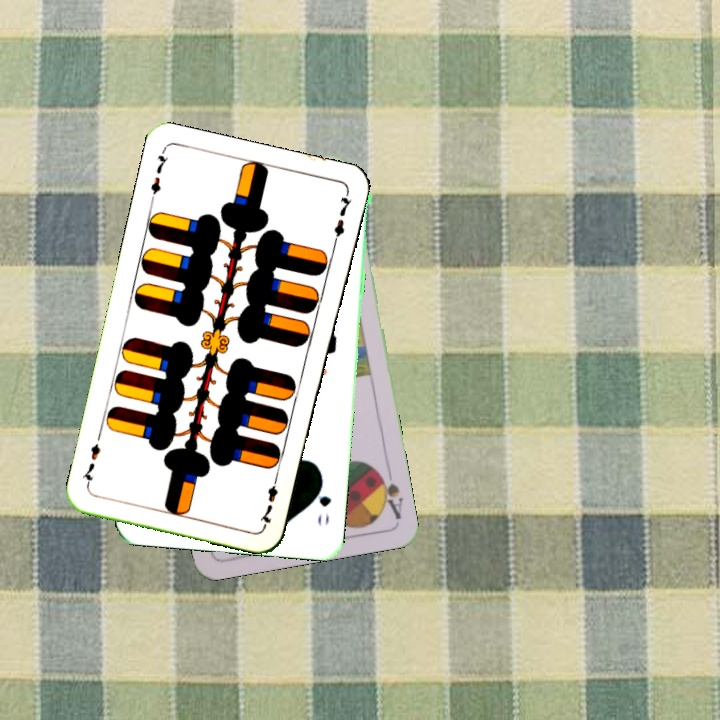E7: (146, 146, 171, 205), (257, 470, 281, 529)
GO: (311, 475, 333, 529)
SA: (373, 465, 406, 522)
